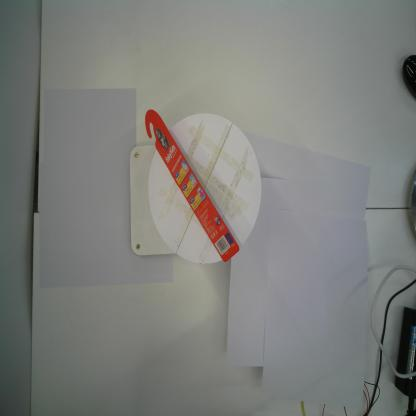Personal Hygiene: (144, 109, 240, 263)
